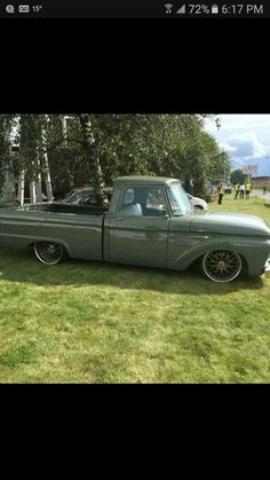pickup-truck: (1, 176, 269, 284)
